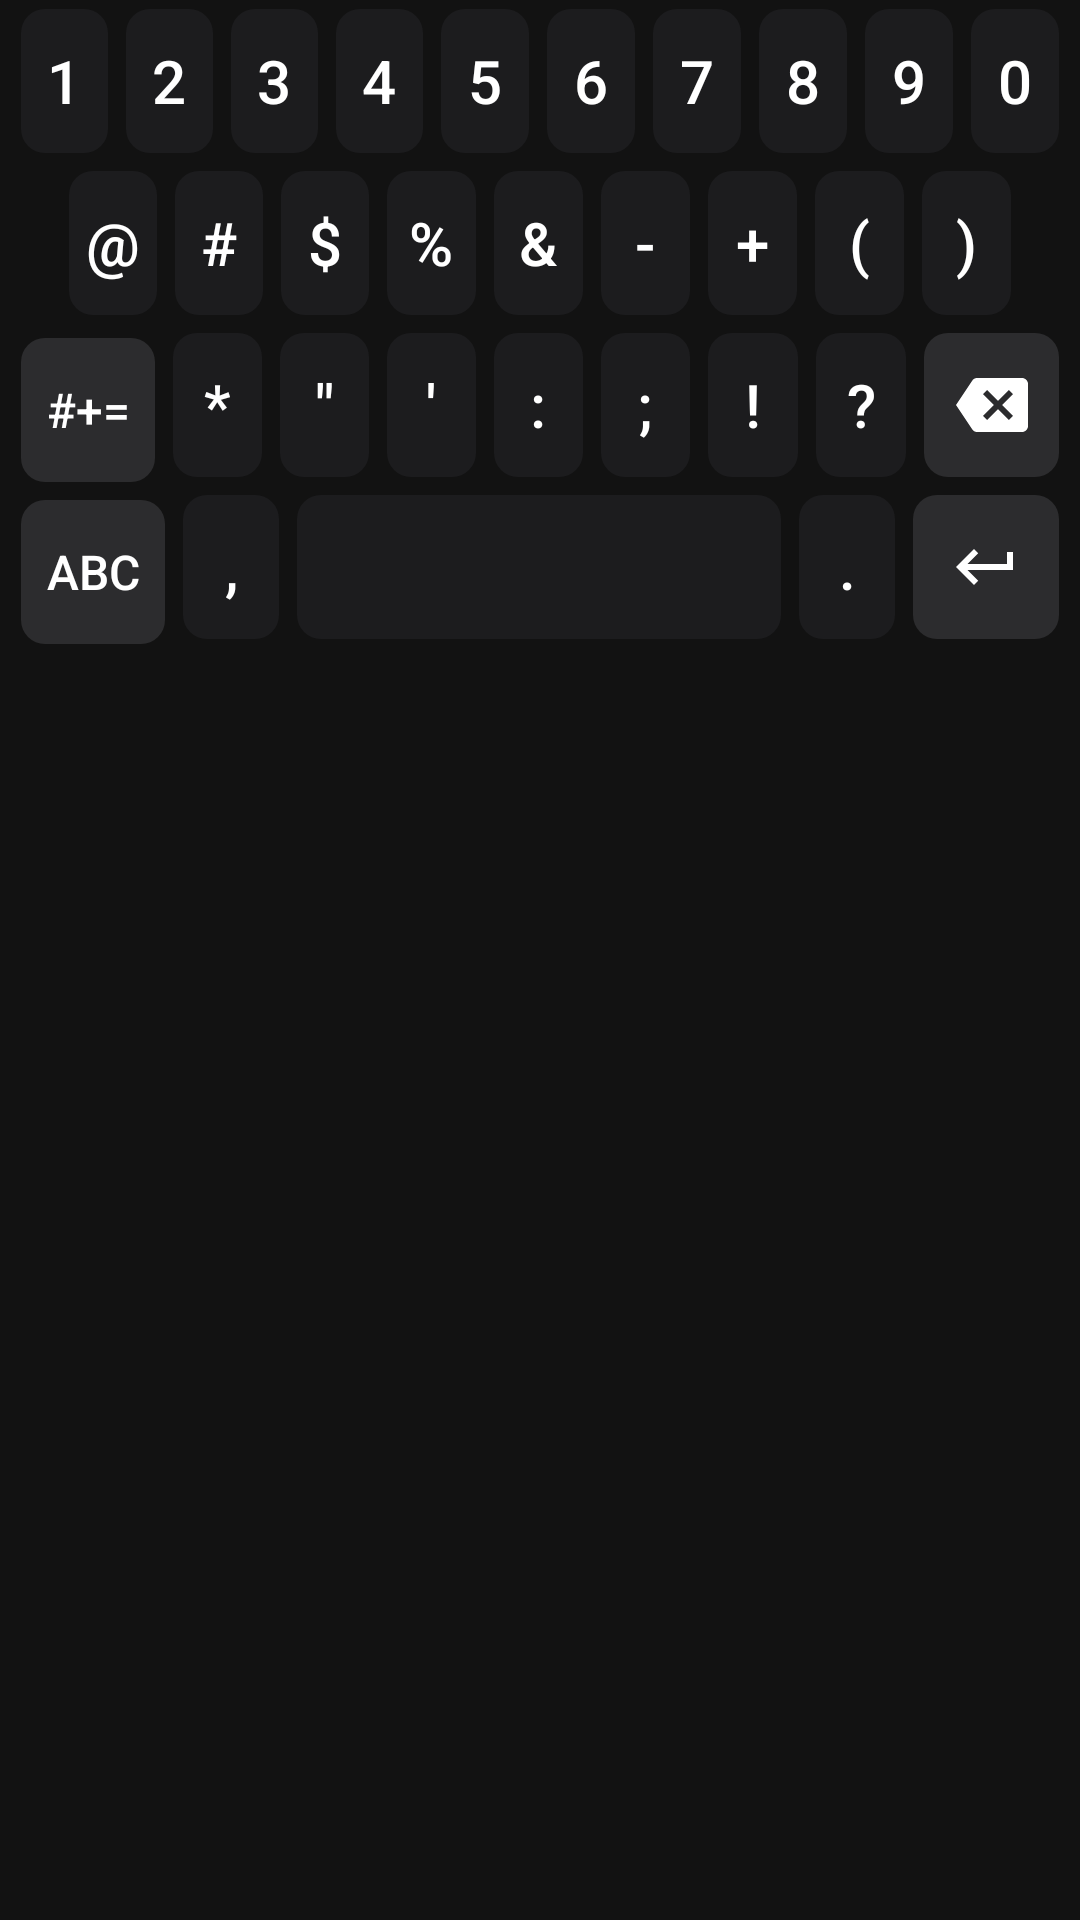

Where to tap for icons on this 1080w x 1920h app screen, as [x,y]:
Backspace: [991,405]
Enter: [986,567]
